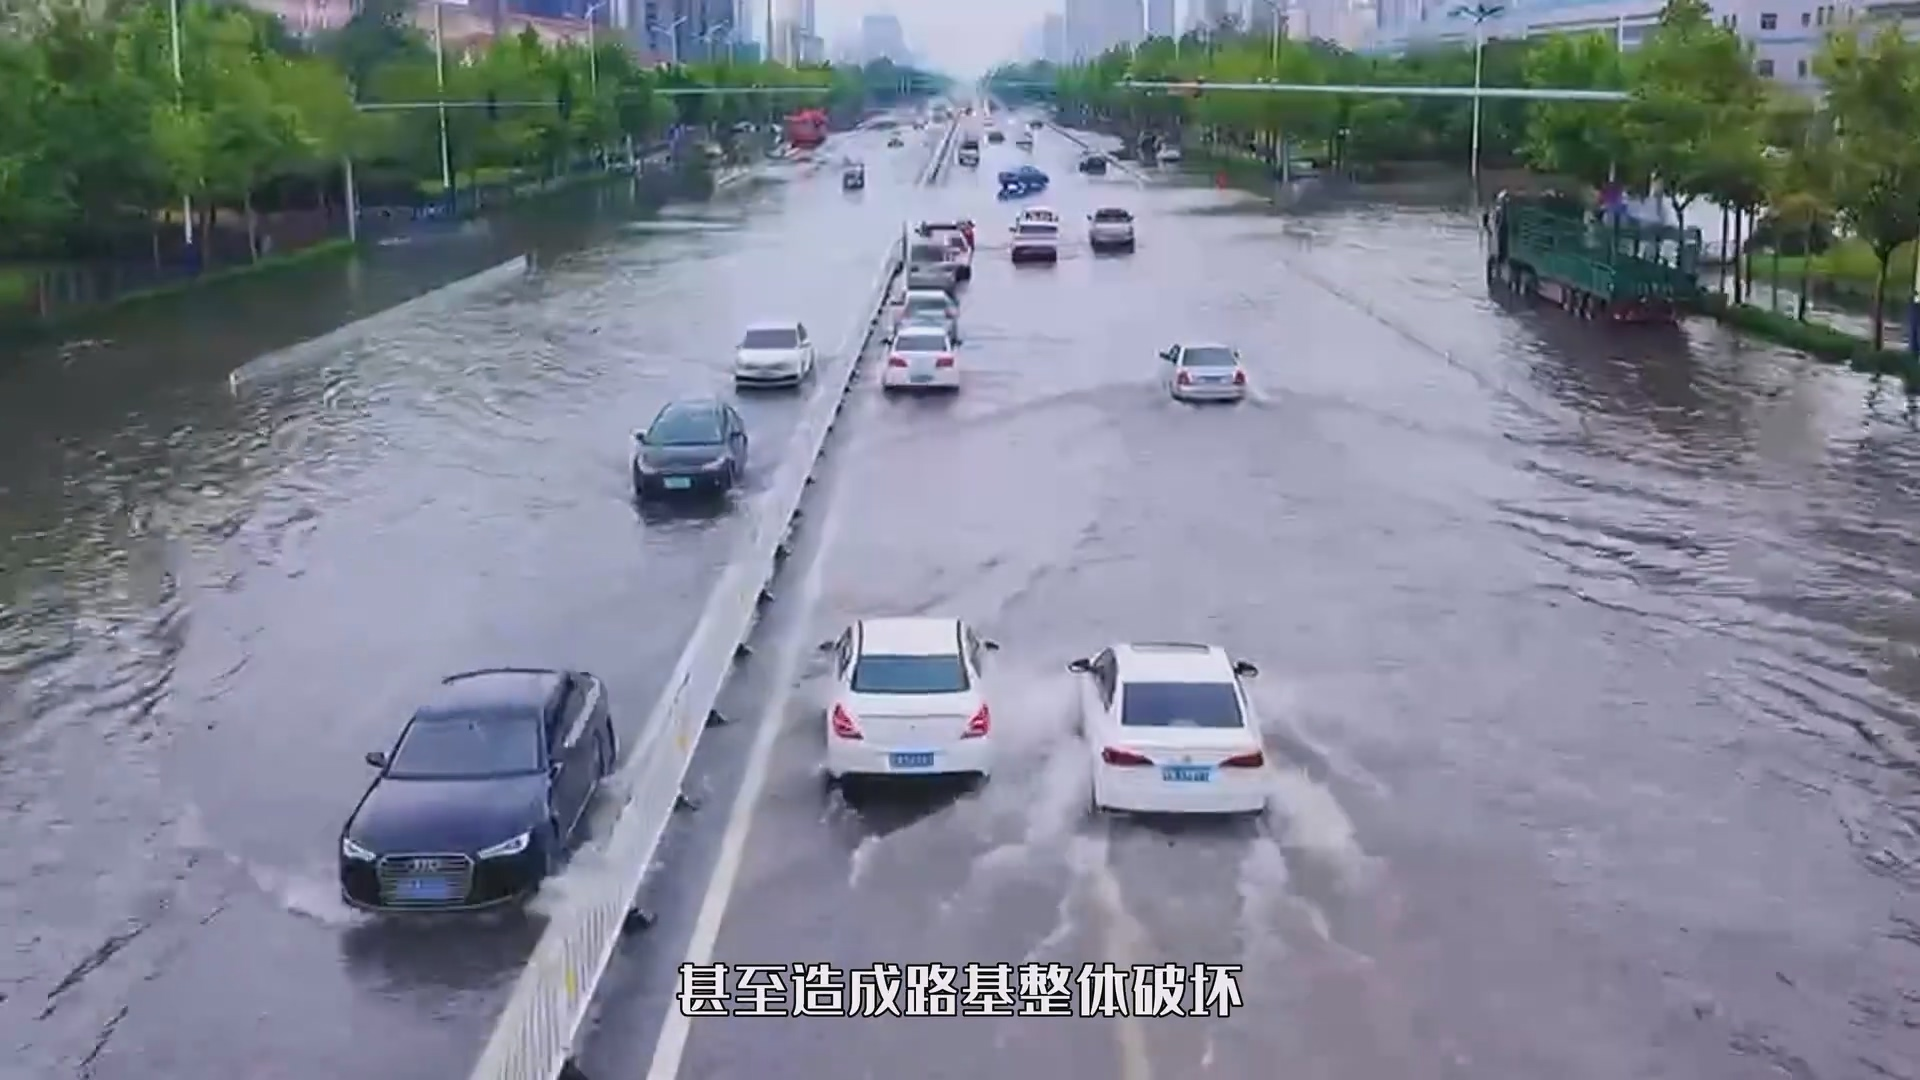puddle: (1, 280, 1920, 1080)
